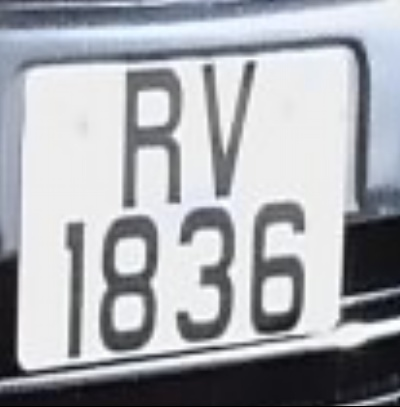1: (47, 204, 96, 369)
3: (160, 204, 246, 352)
6: (238, 195, 320, 347)
8: (88, 203, 169, 361)
R: (106, 53, 196, 213)
V: (190, 52, 265, 203)
